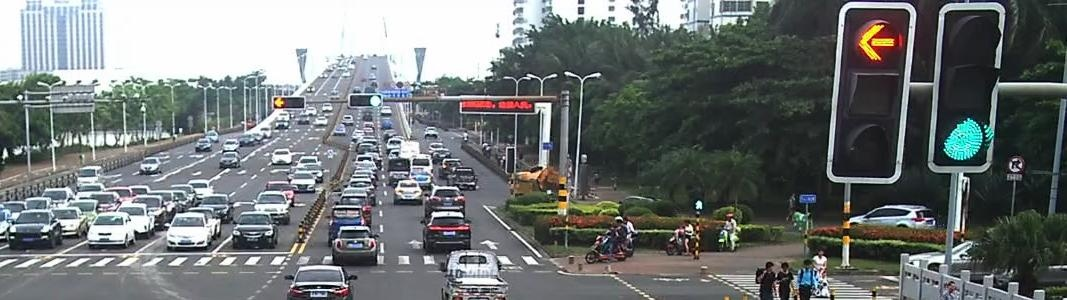green: (937, 112, 988, 166), (368, 94, 381, 107)
greenpeople: (692, 198, 706, 209)
redleft: (853, 17, 901, 63), (273, 96, 286, 107)
